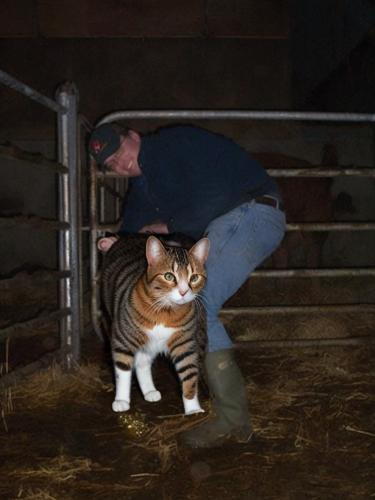cat: (100, 231, 208, 413)
person: (92, 122, 289, 452)
person/foot: (177, 419, 255, 446)
person/hand: (142, 224, 175, 240)
person/head: (90, 124, 142, 177)
